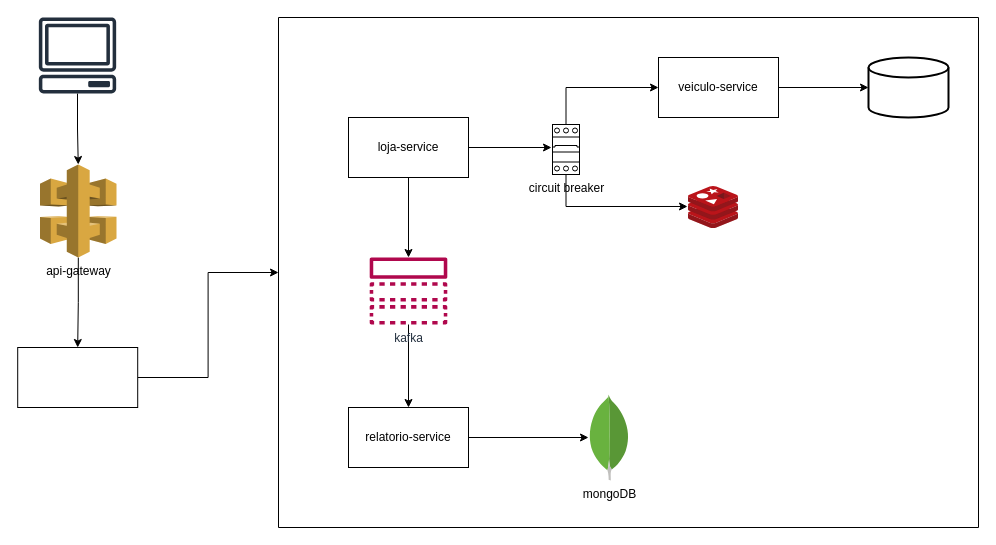
Some shapes in this 996 by 545 pixel diagram are drawn without their labels. The centre of each missing label's shape, as x and y in pixels:
consul: the point at 77,377
postgreSQL: the point at 908,87
